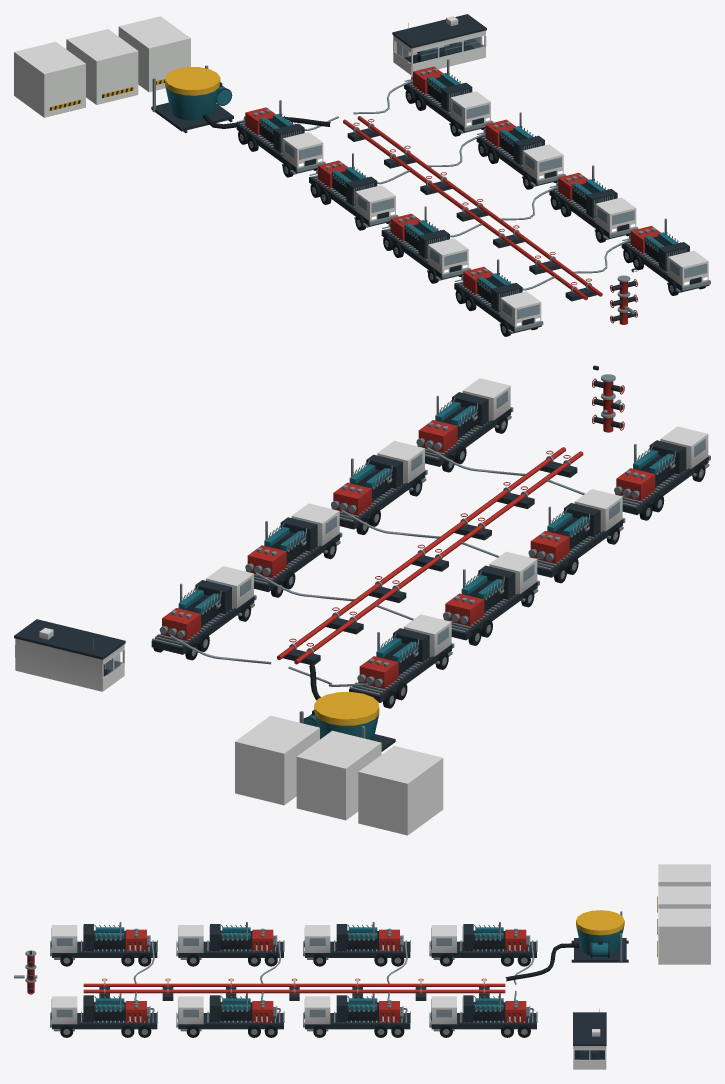
File: frac_spread_lodm.glb
The picture shows the model from 3 angles, top to bottom: view 1: azimuth 30°, elevation 25°; view 2: azimuth 150°, elevation 25°; view 3: azimuth 270°, elevation 25°; orthographic projection. The views are drawn at different scales.
Visible parts, largest first — view 1: sand_storage_surface_white, missile_surface_red, control_van_surface_dark, control_van_surface_white, missile_surface_dark, blender_surface_blue, blender_surface_yellow, high_pressure_lines_surface_steel, pump_truck_4_surface_white, pump_truck_7_surface_white, pump_truck_1_surface_white, pump_truck_3_surface_white (+14 smaller); view 2: sand_storage_surface_white, triplex_pump_surface_red (×8), missile_surface_red, control_van_surface_white, control_van_surface_dark, missile_surface_dark, high_pressure_lines_surface_steel, blender_surface_yellow, pump_truck_5_surface_dark, pump_truck_1_surface_dark, pump_truck_2_surface_dark, pump_truck_4_surface_dark (+13 smaller); view 3: sand_storage_surface_white, missile_surface_red, triplex_pump_surface_red (×8), engine_surface_dark (×8), control_van_surface_dark, pump_truck_6_surface_dark, pump_truck_7_surface_dark, pump_truck_5_surface_dark, pump_truck_8_surface_dark, pump_truck_2_surface_dark, pump_truck_3_surface_dark, pump_truck_1_surface_dark (+28 smaller).
Part boxes in pixels (x1,y1,x2,y2): sand_storage_surface_white: (14, 16, 190, 117); missile_surface_red: (343, 116, 602, 300); control_van_surface_dark: (392, 14, 486, 63); control_van_surface_white: (393, 16, 486, 75); missile_surface_dark: (347, 128, 596, 301); blender_surface_blue: (165, 86, 231, 120); blender_surface_yellow: (165, 67, 220, 95); high_pressure_lines_surface_steel: (287, 80, 630, 290); pump_truck_4_surface_white: (500, 291, 541, 327); pump_truck_7_surface_white: (595, 197, 636, 233); pump_truck_1_surface_white: (282, 132, 323, 167); pump_truck_3_surface_white: (428, 238, 468, 274); sand_storage_surface_white: (235, 715, 443, 835); triplex_pump_surface_red (×8): (162, 420, 655, 689); missile_surface_red: (277, 447, 583, 664); control_van_surface_white: (15, 627, 124, 691); control_van_surface_dark: (14, 619, 125, 676); missile_surface_dark: (283, 461, 577, 664); high_pressure_lines_surface_steel: (170, 447, 624, 686); blender_surface_yellow: (314, 692, 379, 725); pump_truck_5_surface_dark: (151, 580, 254, 654); pump_truck_1_surface_dark: (349, 628, 451, 702); pump_truck_2_surface_dark: (444, 565, 537, 640); pump_truck_4_surface_dark: (615, 440, 708, 514); sand_storage_surface_white: (658, 864, 710, 964); missile_surface_red: (83, 978, 505, 993); triplex_pump_surface_red (×8): (125, 929, 526, 1023); engine_surface_dark (×8): (94, 931, 505, 1020); control_van_surface_dark: (573, 1012, 606, 1059); pump_truck_6_surface_dark: (304, 995, 410, 1029); pump_truck_7_surface_dark: (178, 995, 283, 1029); pump_truck_5_surface_dark: (431, 995, 536, 1029); pump_truck_8_surface_dark: (51, 995, 157, 1029); pump_truck_2_surface_dark: (304, 924, 410, 957); pump_truck_3_surface_dark: (178, 924, 283, 957); pump_truck_1_surface_dark: (431, 924, 536, 957).
Bounding box in the file's own units: 37.6 × 5.24 × 66.1.
